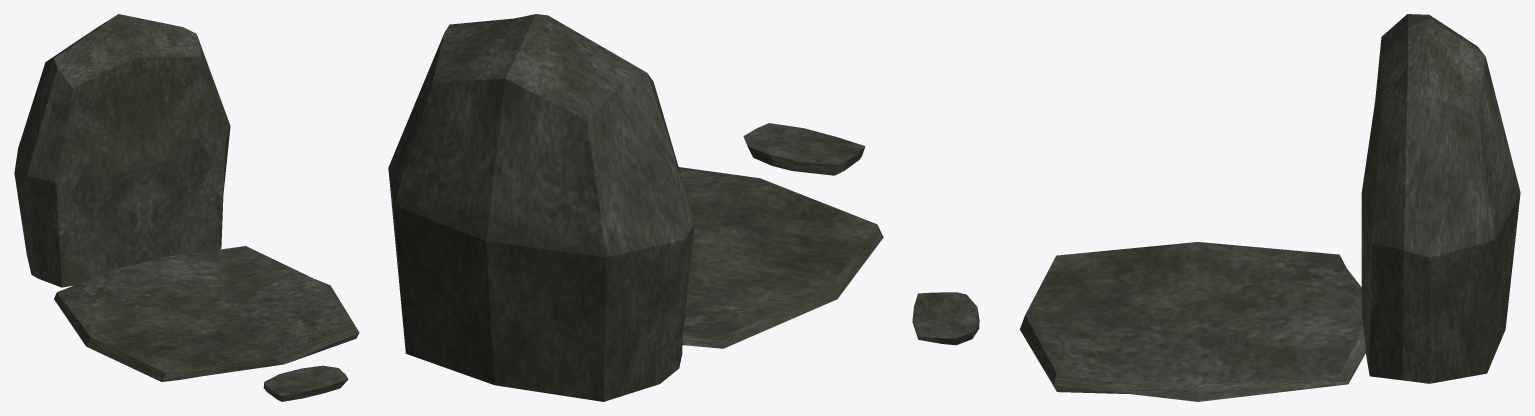
The model's file is stone.glb.
3 views of the same model, side by side, from view 1: azimuth 30°, elevation 25°; view 2: azimuth 150°, elevation 25°; view 3: azimuth 270°, elevation 25° (orthographic). The views are drawn at different scales.
Visible parts, largest first — view 1: stone1, stone2, button; view 2: stone1, stone2, button; view 3: stone1, stone2, button.
Boxes of the visible parts, bbox=[...] form: stone1: bbox=[14, 14, 230, 287]; stone2: bbox=[54, 246, 359, 381]; button: bbox=[263, 365, 348, 401]; stone1: bbox=[388, 14, 694, 401]; stone2: bbox=[679, 167, 883, 348]; button: bbox=[743, 123, 865, 175]; stone1: bbox=[1361, 14, 1520, 383]; stone2: bbox=[1020, 242, 1365, 401]; button: bbox=[912, 292, 979, 345].
Bounding box in the file's own units: 1.49 × 1.43 × 2.47.
Materials: 1 (1 with a texture image).
